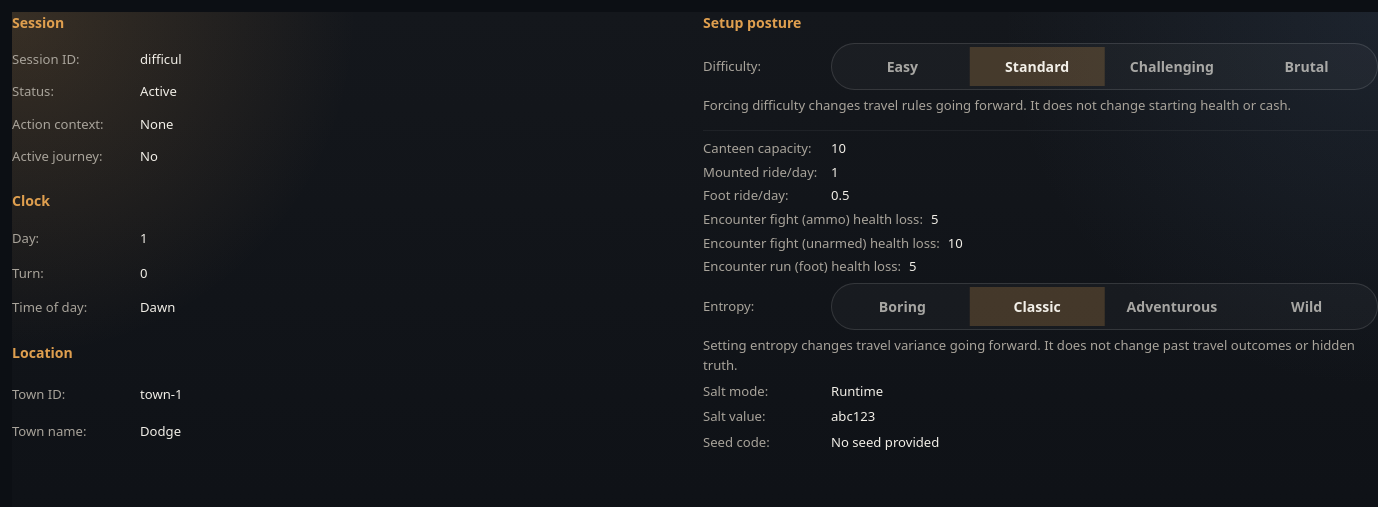
Test: SessionDevPanel › preserves the backend difficulty after rejection and shows refreshed state after retry
Step 1. Click the button "Brutal" → (1307, 67), box 1239,47 -> 1374,86
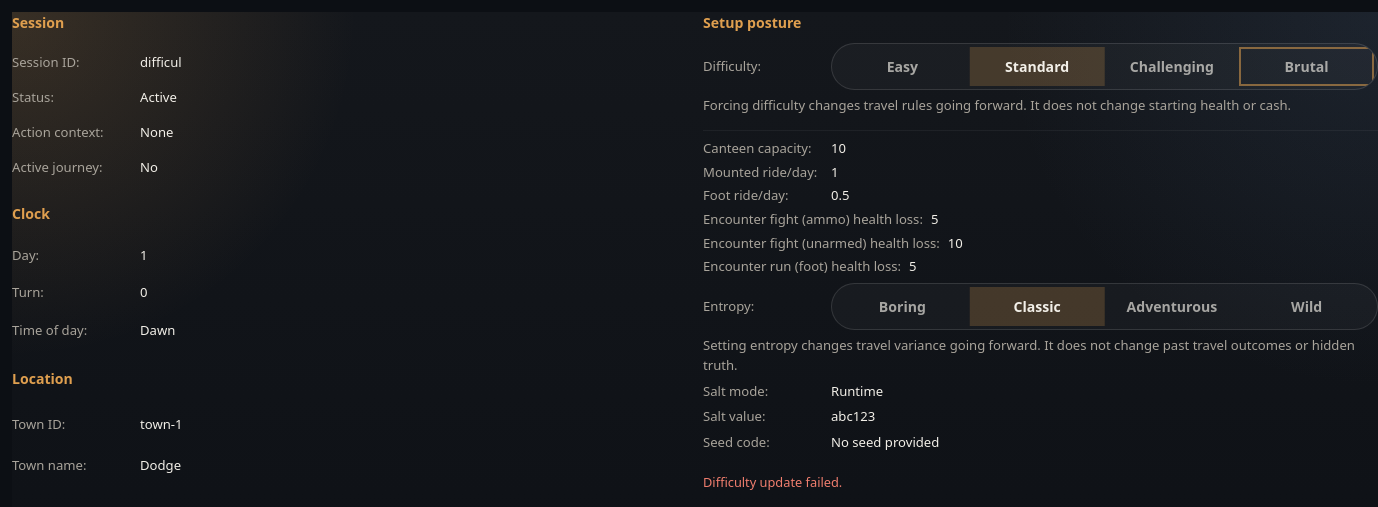
Now the text "Difficulty update failed." is shown, box 703,473 -> 842,491
Step 2. Click the button "Brutal" → (1307, 67), box 1239,47 -> 1374,86
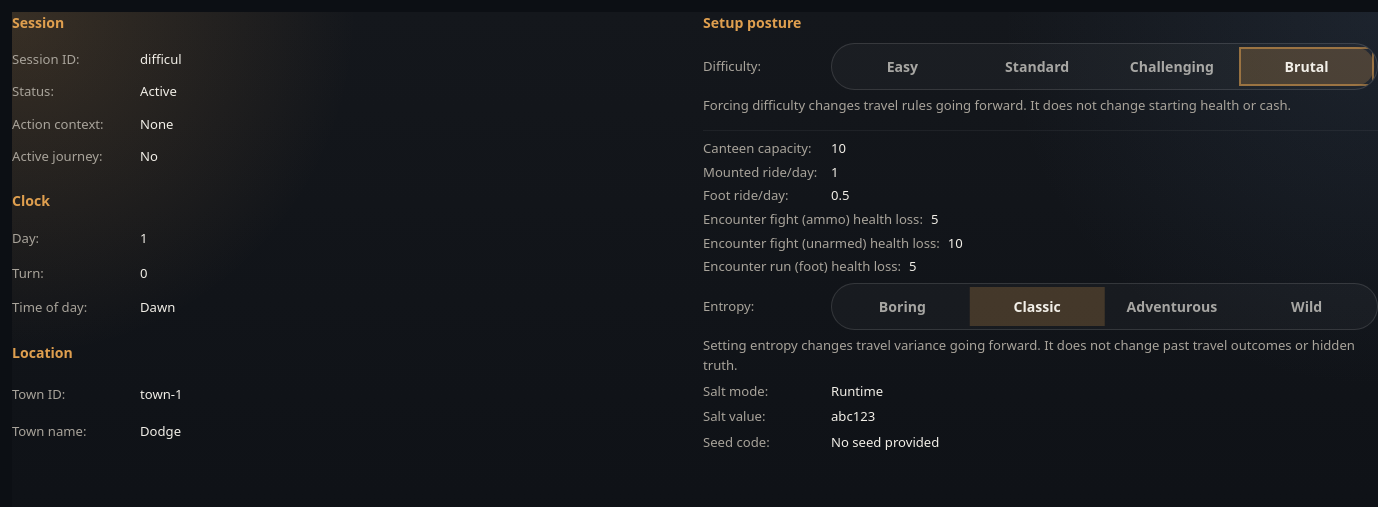
Now the text "Difficulty update failed." is gone
